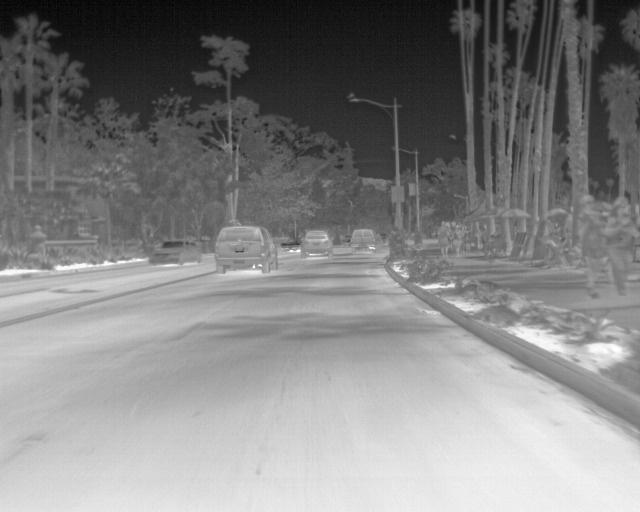bicycle: (212, 224, 279, 273), (147, 236, 200, 266), (299, 227, 335, 255), (348, 228, 381, 249), (287, 241, 301, 253)
empty: (602, 201, 639, 294), (576, 194, 606, 298), (436, 219, 452, 254), (450, 223, 462, 254)
